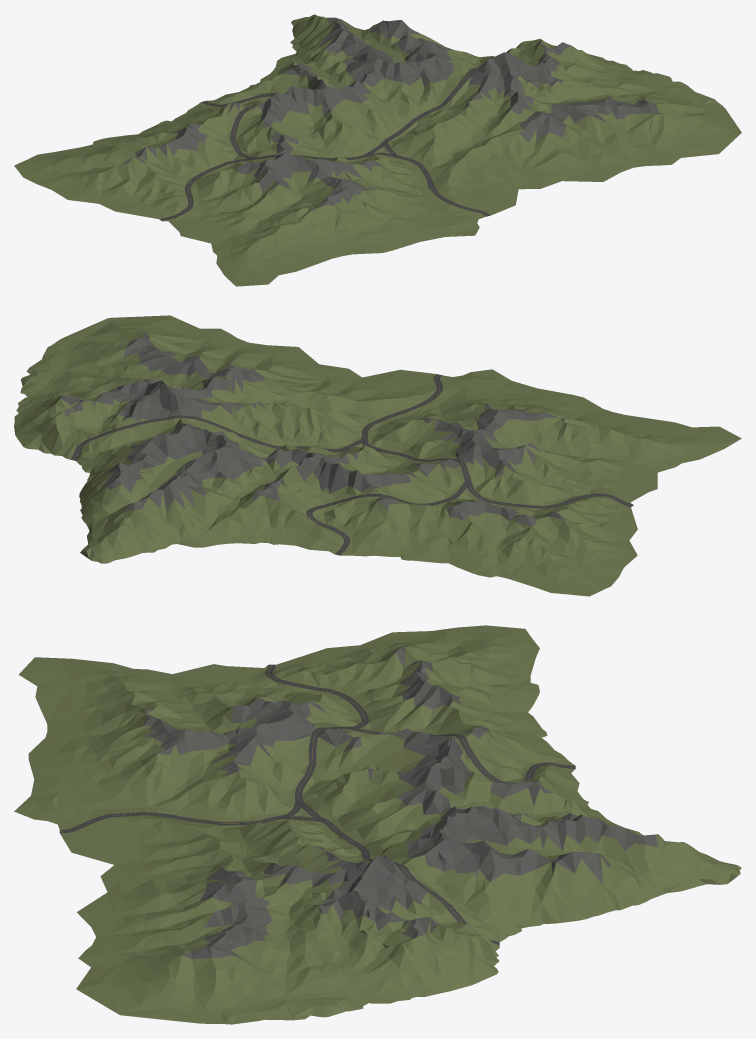
File: SM_Envr_Nature_Mountain_02.fbx
3 renders of one model, top to bottom at view 1: azimuth 30°, elevation 25°; view 2: azimuth 150°, elevation 25°; view 3: azimuth 270°, elevation 25°, orthographic. The views are drawn at different scales.
Parts seen in each view (by area): view 1: SM_Envr_Nature_Mountain_02; view 2: SM_Envr_Nature_Mountain_02; view 3: SM_Envr_Nature_Mountain_02.
Part boxes in pixels (box(x1,y1,x2,y2)): SM_Envr_Nature_Mountain_02: box(14, 14, 741, 286); SM_Envr_Nature_Mountain_02: box(14, 315, 741, 596); SM_Envr_Nature_Mountain_02: box(14, 625, 741, 1024).
Size of the model in its own units: 124512 by 9247 by 95957.
